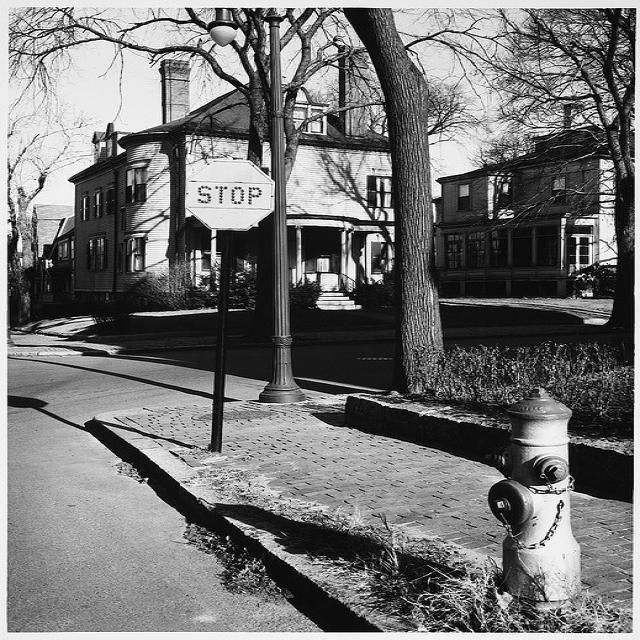fire_hydrant: (472, 388, 584, 613)
